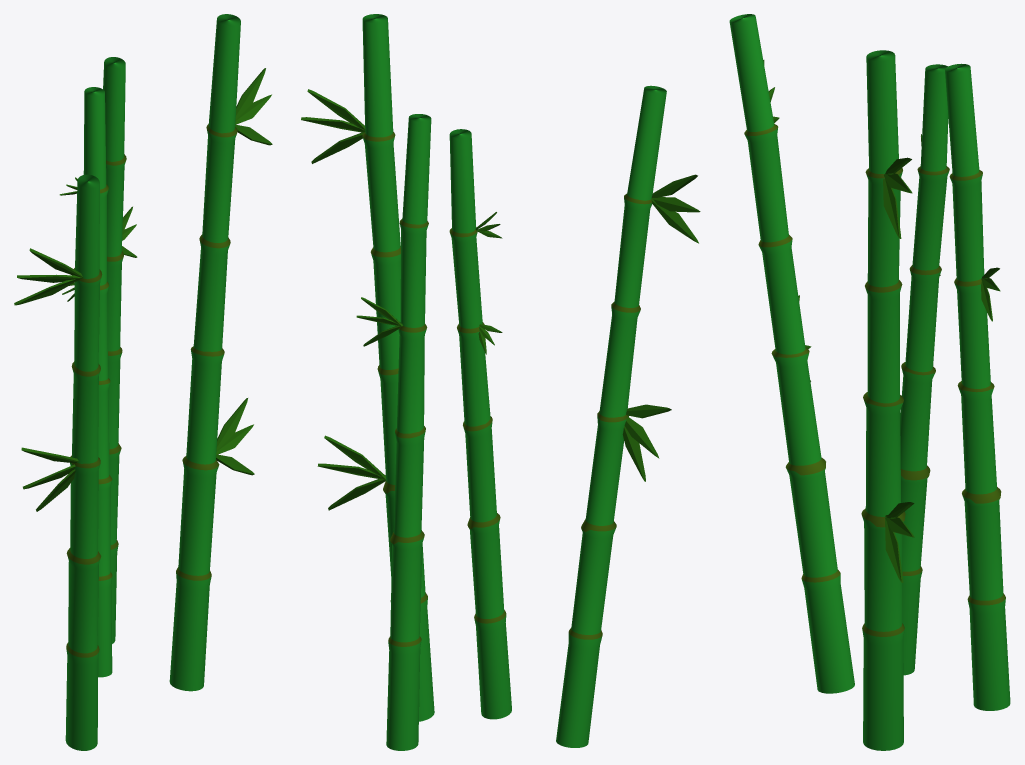
Rendered from bambus.glb.
3 views of the same model, side by side, from view 1: azimuth 30°, elevation 25°; view 2: azimuth 150°, elevation 25°; view 3: azimuth 270°, elevation 25° (orthographic). The views are drawn at different scales.
Visible parts, largest first — view 1: Cylinder, Cylinder.002, Cylinder.003, Cylinder.001, Plane.009, Plane.006, Plane; view 2: Cylinder.002, Cylinder.003, Cylinder.001, Cylinder; view 3: Cylinder, Cylinder.002, Cylinder.003, Cylinder.001, Plane.011, Plane.008.
Part boxes in pixels (bbox=[...]): Cylinder: bbox=[169, 14, 240, 691]; Cylinder.002: bbox=[65, 174, 102, 750]; Cylinder.003: bbox=[103, 57, 126, 643]; Cylinder.001: bbox=[83, 87, 112, 677]; Plane.009: bbox=[216, 398, 247, 450]; Plane.006: bbox=[235, 68, 265, 119]; Plane: bbox=[14, 279, 78, 305]; Cylinder.002: bbox=[556, 85, 666, 747]; Cylinder.003: bbox=[386, 114, 431, 750]; Cylinder.001: bbox=[449, 129, 511, 719]; Cylinder: bbox=[362, 14, 434, 721]; Cylinder: bbox=[861, 50, 905, 750]; Cylinder.002: bbox=[729, 14, 854, 693]; Cylinder.003: bbox=[945, 63, 1010, 710]; Cylinder.001: bbox=[900, 64, 949, 675]; Plane.011: bbox=[885, 515, 903, 582]; Plane.008: bbox=[883, 178, 901, 238].
Bounding box in the file's own units: 3.91 × 7.83 × 2.76.
